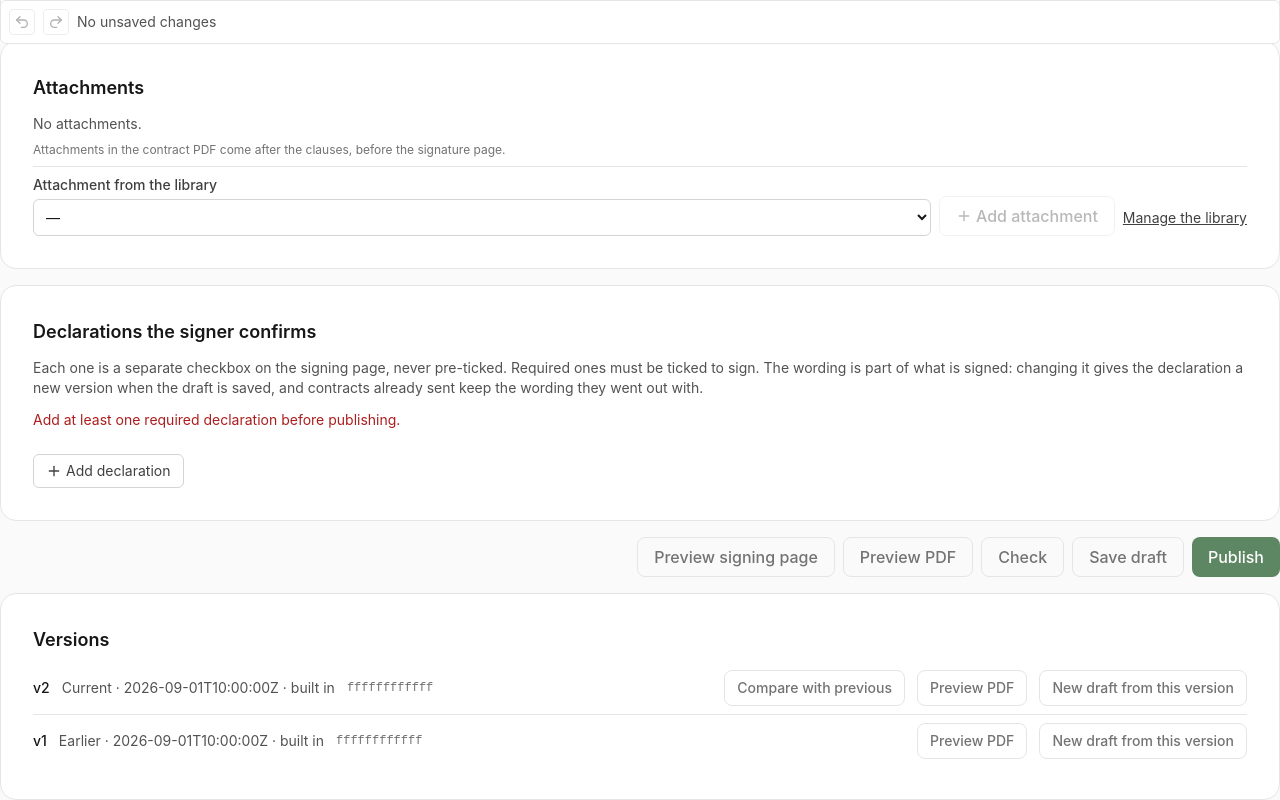
declarations in the editor state (#1445 × #1446) › the version compare lists changed declarations
(page scrolled)
Click the button "Compare with previous" at [815, 688], box [724,670,905,706]
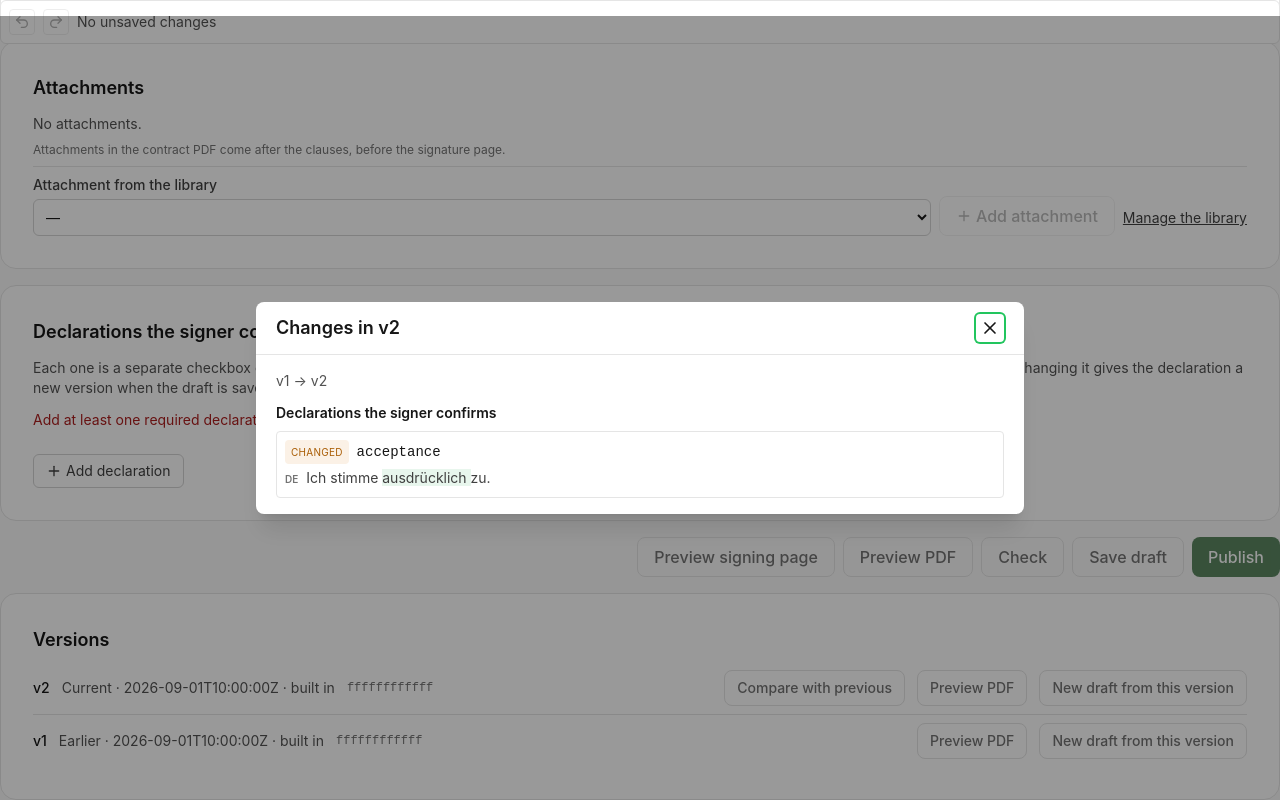
Result: the dialog "Changes in v2" shows "Declarations the signer confirms" at [276,404,496,421]
Result: the dialog "Changes in v2" shows "acceptance" at [357,444,441,460]
Result: the text "ausdrücklich" is shown at [382,469,471,486]
